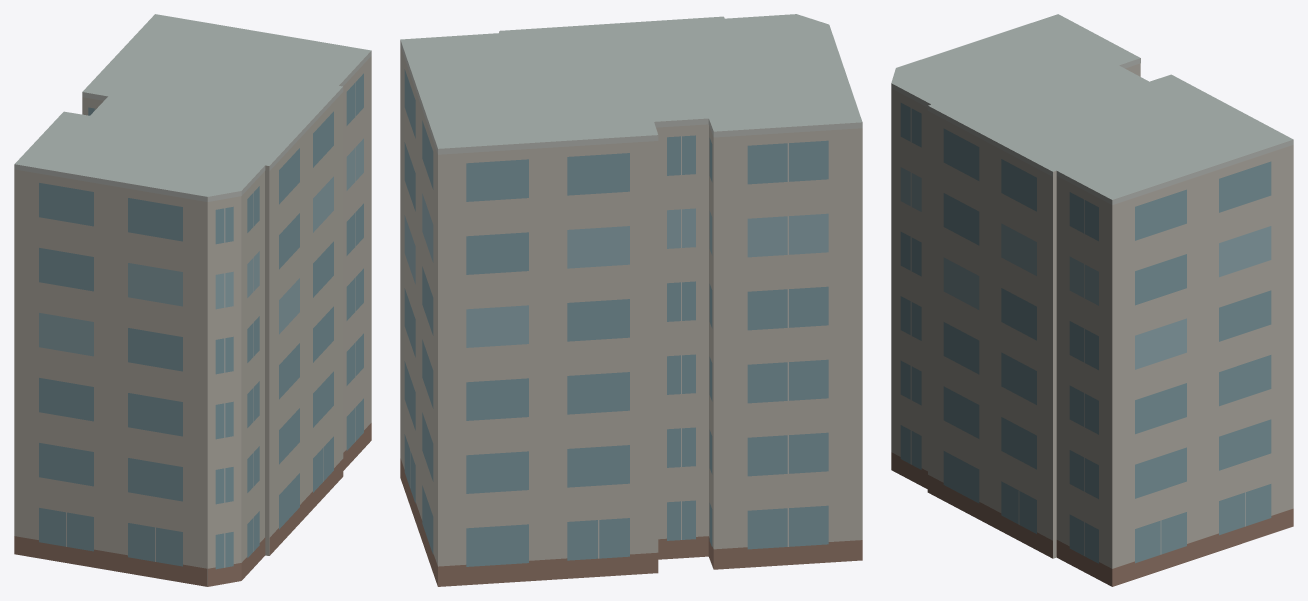
The model's file is survey-upis-33025171.glb.
The picture shows the model from 3 angles, left to right: view 1: azimuth 30°, elevation 25°; view 2: azimuth 150°, elevation 25°; view 3: azimuth 270°, elevation 25°; orthographic projection. The views are drawn at different scales.
Parts seen in each view (by area): view 1: survey-upis-33025171.tmp; view 2: survey-upis-33025171.tmp; view 3: survey-upis-33025171.tmp.
Part boxes in pixels (x1=…): survey-upis-33025171.tmp: x1=14, y1=14, x2=371, y2=586; survey-upis-33025171.tmp: x1=400, y1=14, x2=862, y2=586; survey-upis-33025171.tmp: x1=891, y1=14, x2=1293, y2=586.
Size of the model in its own units: 18.88 by 18.3 by 17.26.
